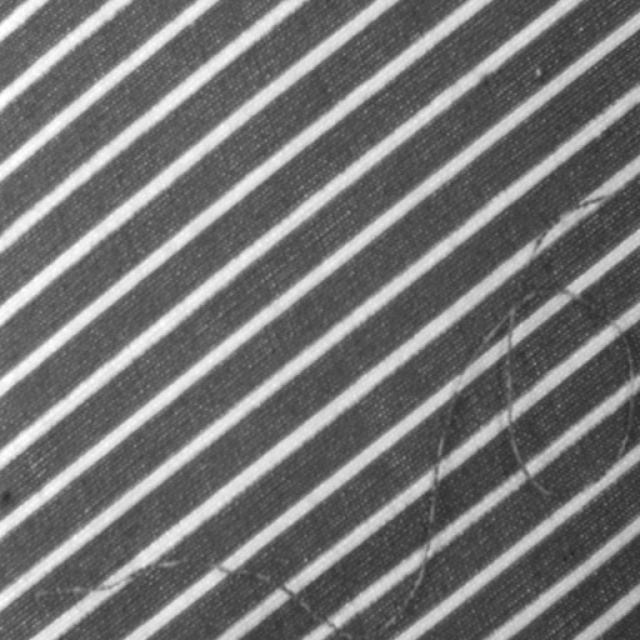Foreign-Body-Defect: (25, 294, 511, 634), (503, 282, 635, 508), (511, 179, 624, 294)
